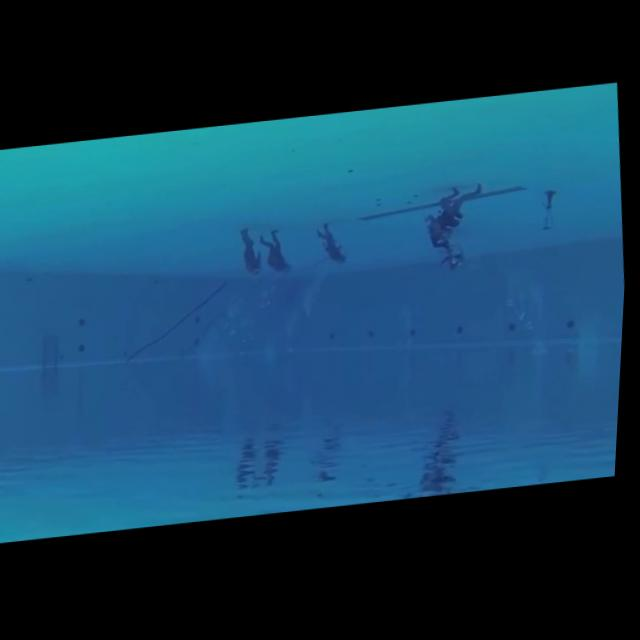human: (418, 179, 494, 259), (255, 223, 304, 288), (234, 221, 274, 288), (314, 216, 357, 274)
